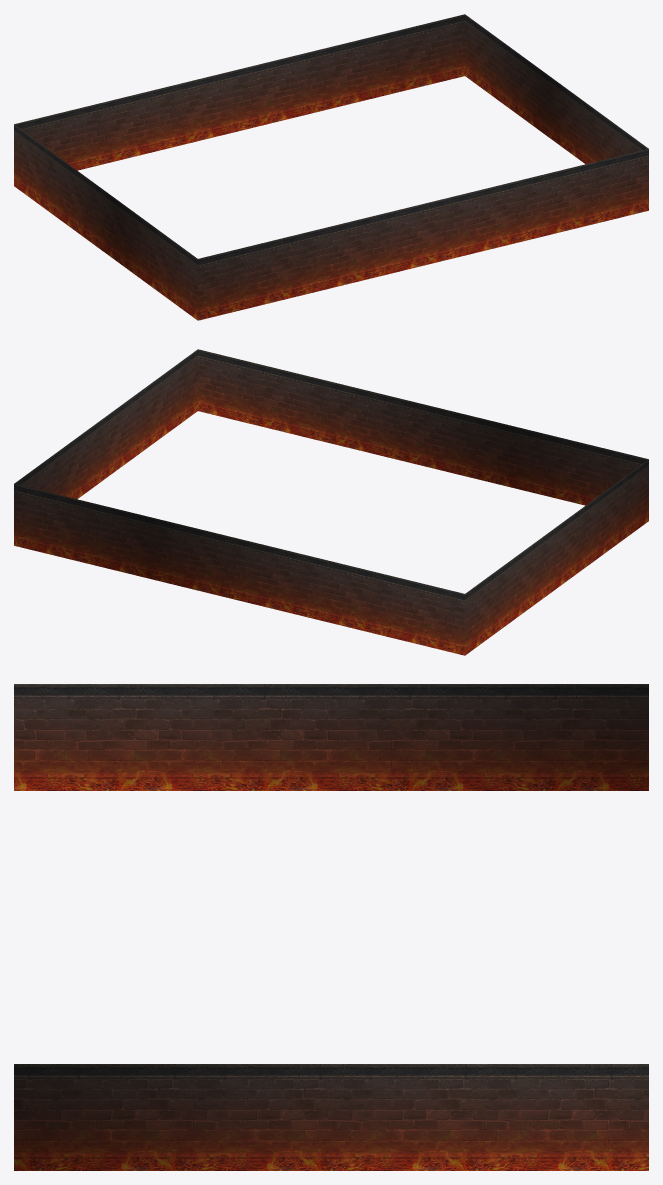
The model's file is wq_wai.FBX.
The picture shows the model from 3 angles, top to bottom: view 1: azimuth 30°, elevation 25°; view 2: azimuth 150°, elevation 25°; view 3: azimuth 270°, elevation 25°; orthographic projection. The views are drawn at different scales.
Parts seen in each view (by area): view 1: weiqiang_wai; view 2: weiqiang_wai; view 3: weiqiang_wai.
Boxes of the visible parts, left/top/right/bottom form: weiqiang_wai: left=14, top=14, right=648, bottom=320; weiqiang_wai: left=14, top=349, right=648, bottom=655; weiqiang_wai: left=14, top=684, right=648, bottom=1170.
Size of the model in its own units: 23398 by 3067 by 16527.
